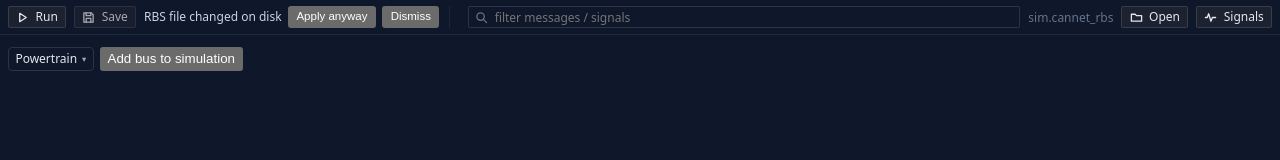
Test: an RBS file changing on disk › stops showing the notice once the host says it is resolved
Click the button "Apply anyway": (332, 17) [288, 6, 376, 28]
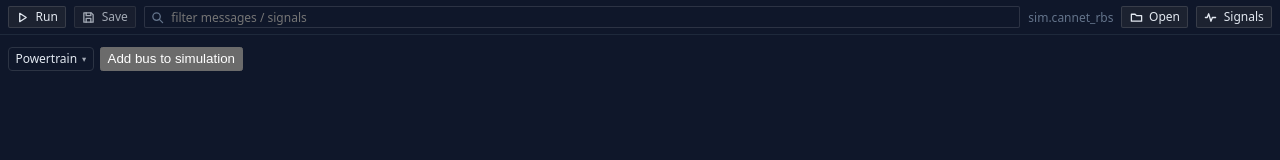
Expected: the text "RBS file changed on disk" is gone
